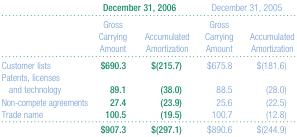table: (0, 1, 293, 134)
table column: (0, 1, 92, 134), (135, 1, 196, 134), (240, 1, 293, 134), (196, 1, 240, 134), (92, 1, 135, 134)
table column header: (0, 1, 293, 56)
table row: (0, 15, 293, 56), (0, 70, 293, 94), (0, 1, 293, 15), (0, 56, 293, 70), (0, 120, 293, 134), (0, 94, 293, 107), (0, 107, 293, 120)
table spanning cell: (92, 1, 196, 15), (196, 1, 293, 15)
